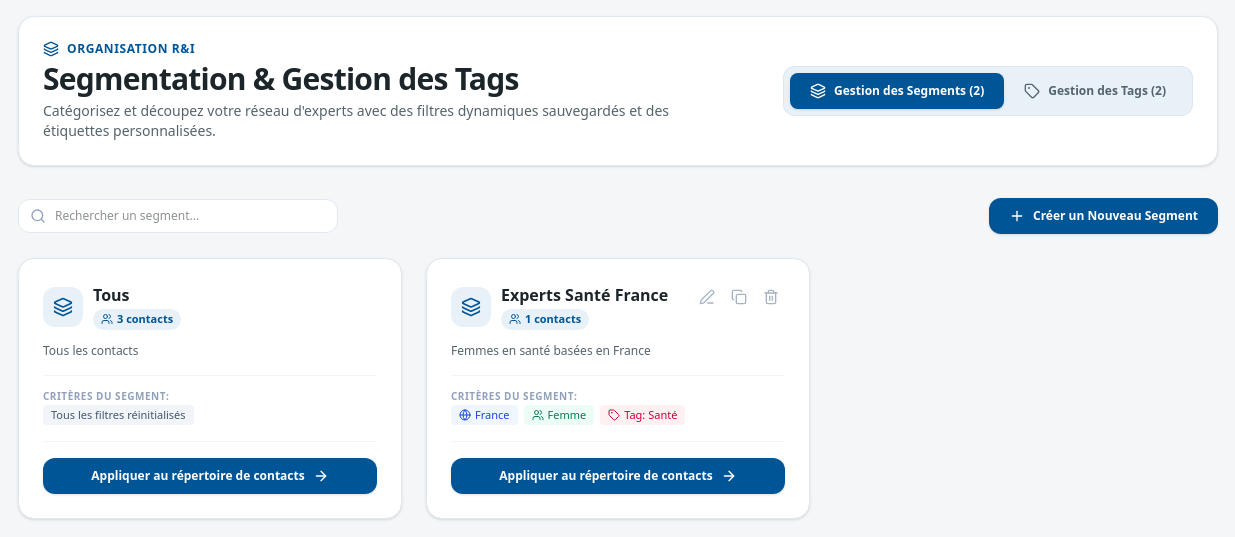
it: SegmentationView › Segments tab – search › clears search with the X button
Type "ZZZZZ" into the field with placeholder "Rechercher un segment..." at coordinates (178, 216), box [18,199,338,233]
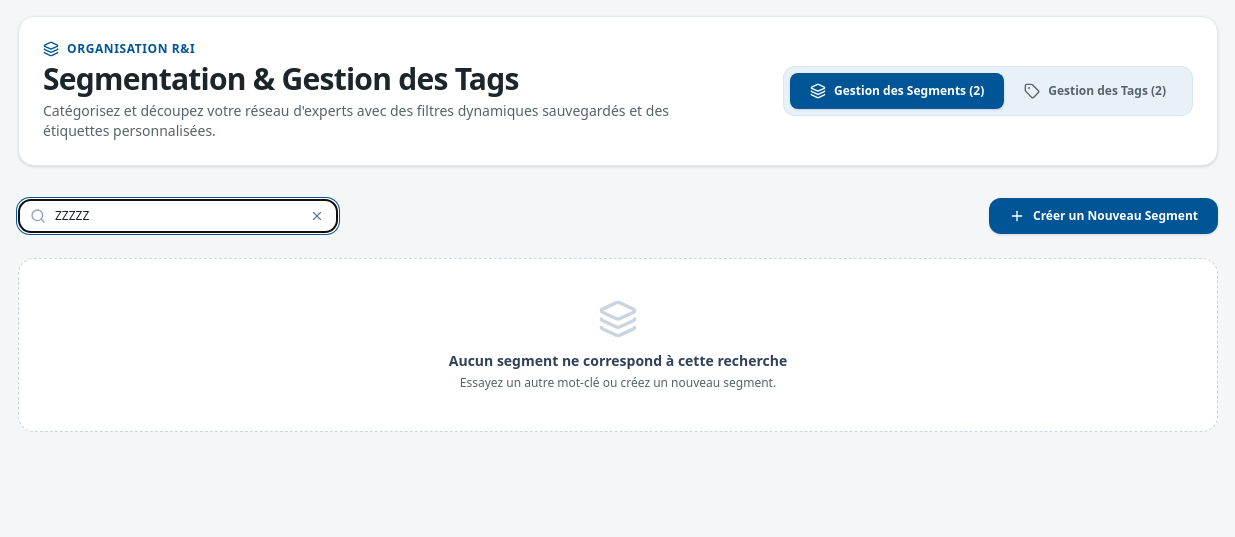
Click the button named "Effacer la recherche" at coordinates (317, 216), box [306,205,328,227]
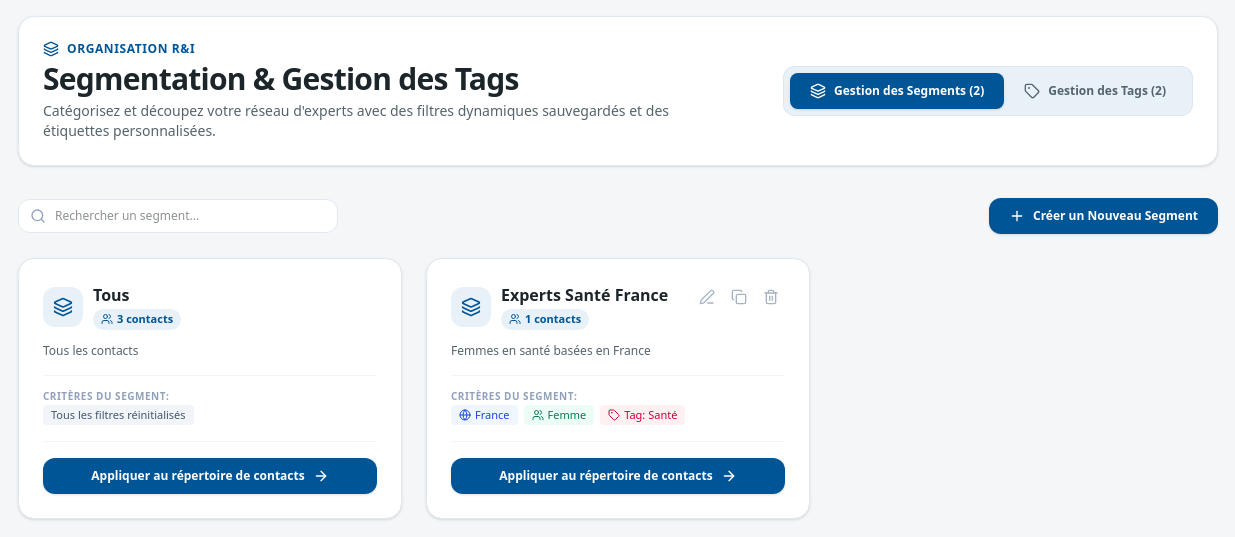
Now the field with placeholder "Rechercher un segment..." is empty, box [18,199,338,233]
Now the heading "Tous" is shown, box [93,284,130,306]
